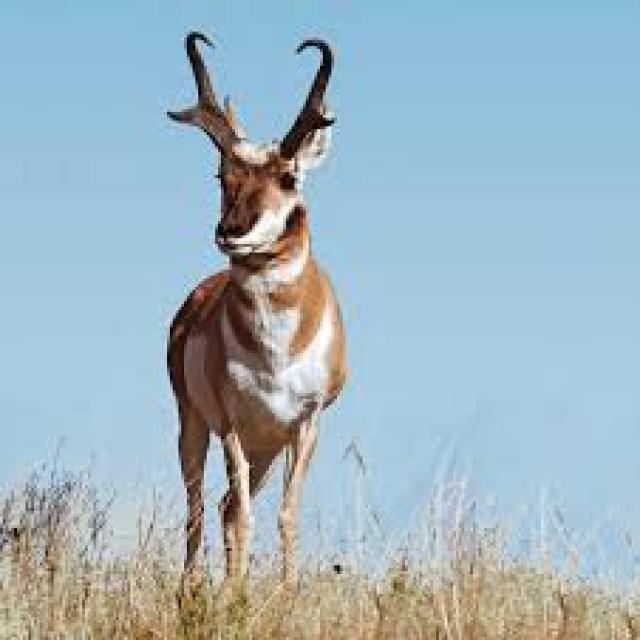Antelope: (146, 18, 358, 596)
